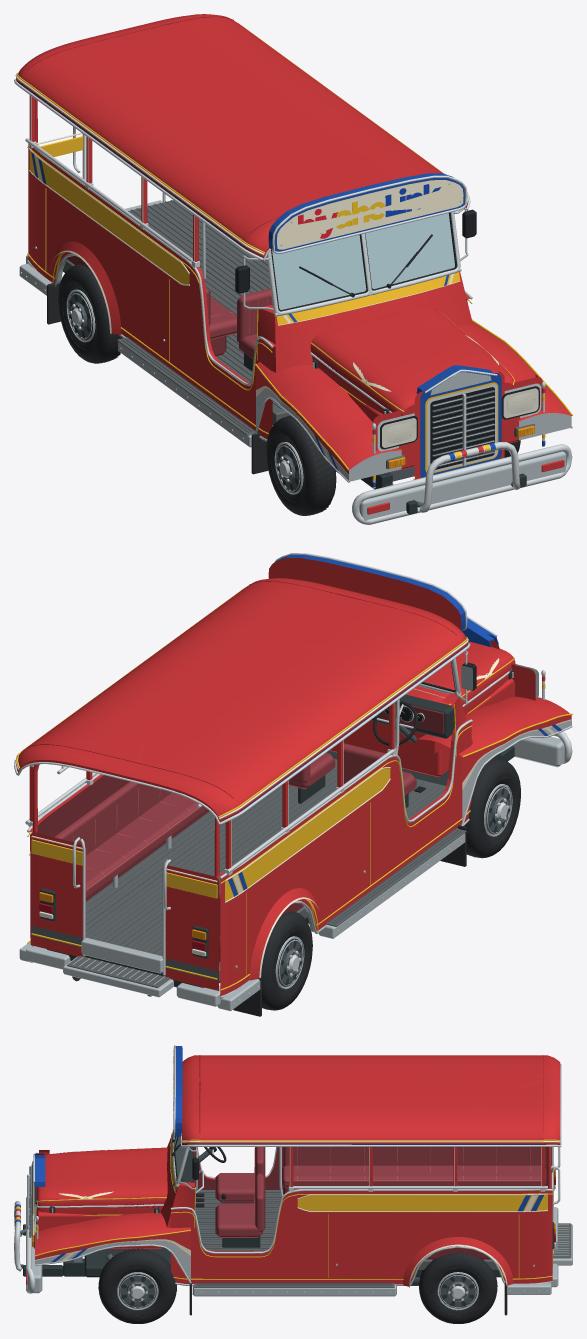
The model's file is jeepney.glb.
The picture shows the model from 3 angles, top to bottom: view 1: azimuth 30°, elevation 25°; view 2: azimuth 150°, elevation 25°; view 3: azimuth 270°, elevation 25°; orthographic projection. The views are drawn at different scales.
Visible parts, largest first — view 1: body, wheel-FR, wheel-RR; view 2: body, wheel-FR, wheel-RR; view 3: body, wheel-FL, wheel-RL.
Boxes of the visible parts, x1,y1,x2,y2 form: body: [14, 14, 572, 524]; wheel-FR: [266, 415, 336, 515]; wheel-RR: [58, 264, 122, 363]; body: [14, 553, 572, 1016]; wheel-FR: [464, 757, 520, 858]; wheel-RR: [261, 911, 312, 1010]; body: [14, 1045, 572, 1315]; wheel-FL: [98, 1248, 176, 1323]; wheel-RL: [419, 1253, 497, 1323].
Size of the model in its own units: 2.25 by 2.53 by 5.9.
8 materials, 2 textured.
